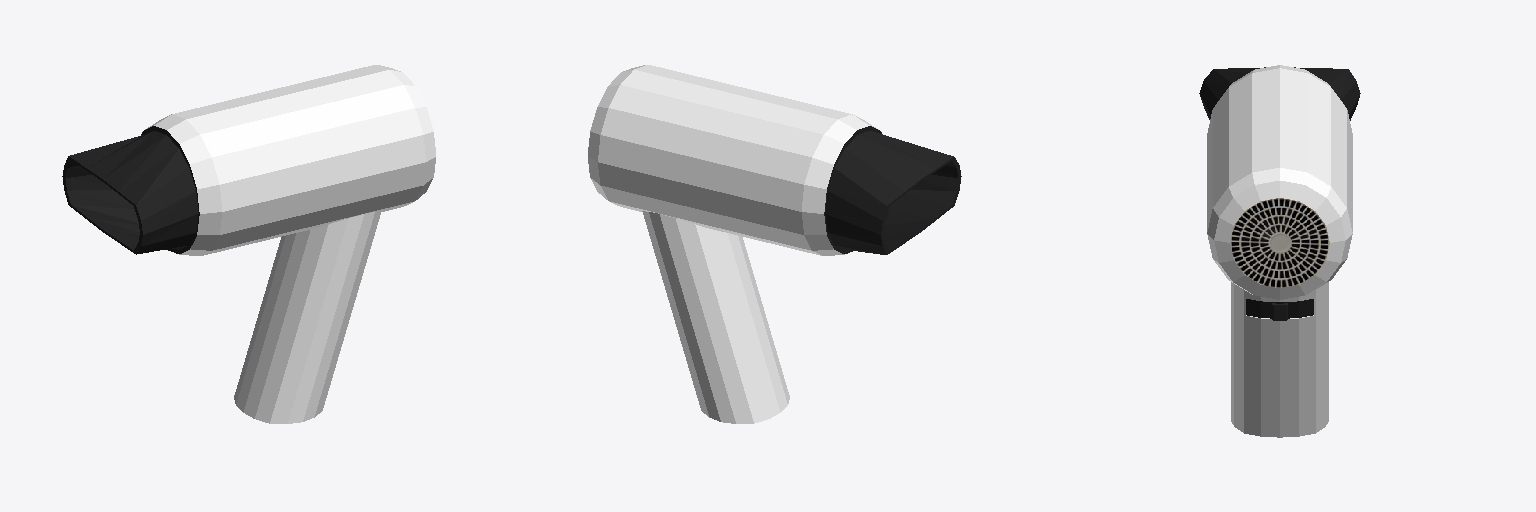
3 renders of one model, left to right at view 1: azimuth 30°, elevation 25°; view 2: azimuth 150°, elevation 25°; view 3: azimuth 270°, elevation 25°, orthographic.
Parts seen in each view (by area): view 1: Cylinder_12, Boolean_3, Boolean_1; view 2: Cylinder_12, Boolean_3, Boolean_1; view 3: Cylinder_12, Boolean_3, Cylinder_12_2, Boolean_1, Boolean_4.
Part boxes in pixels (bbox=[...]): Cylinder_12: bbox=[145, 65, 435, 255]; Boolean_3: bbox=[234, 211, 381, 423]; Boolean_1: bbox=[62, 131, 198, 254]; Cylinder_12: bbox=[588, 65, 878, 255]; Boolean_3: bbox=[642, 211, 789, 423]; Boolean_1: bbox=[825, 131, 961, 254]; Cylinder_12: bbox=[1207, 65, 1352, 299]; Boolean_3: bbox=[1231, 282, 1328, 437]; Cylinder_12_2: bbox=[1230, 198, 1329, 287]; Boolean_1: bbox=[1199, 67, 1360, 120]; Boolean_4: bbox=[1246, 299, 1313, 318].
Size of the model in its own units: 1 by 0.9584 by 0.4558.
3 materials, 1 textured.